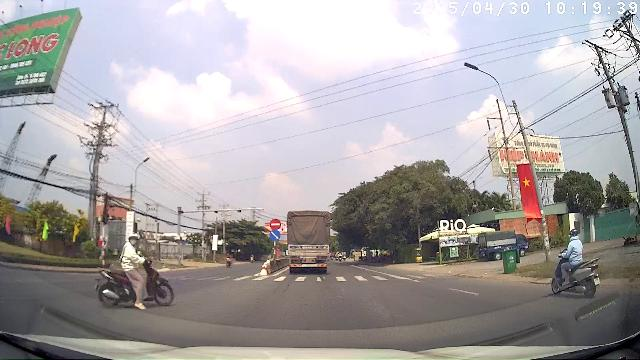102-cam-di-nguoc-chieu: (270, 219, 281, 230)
302a-huong-phai-di-vong-chuong-ngai-vat-1: (269, 230, 281, 241)
